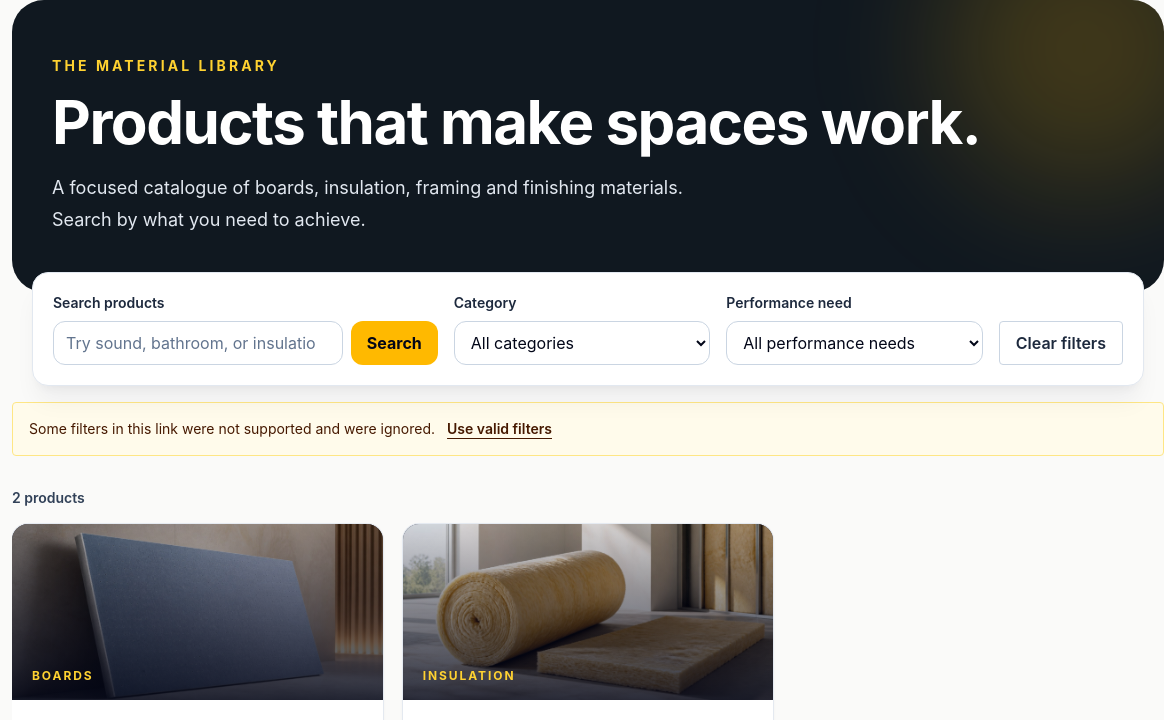
Test case: ProductsPage › ignores invalid URL filters and offers recovery
Expected: the text "Some filters in this link were not supported and were ignored." is shown, [29,419,435,439]
Click the button "Use valid filters": {"x": 500, "y": 429} [447,419,552,439]
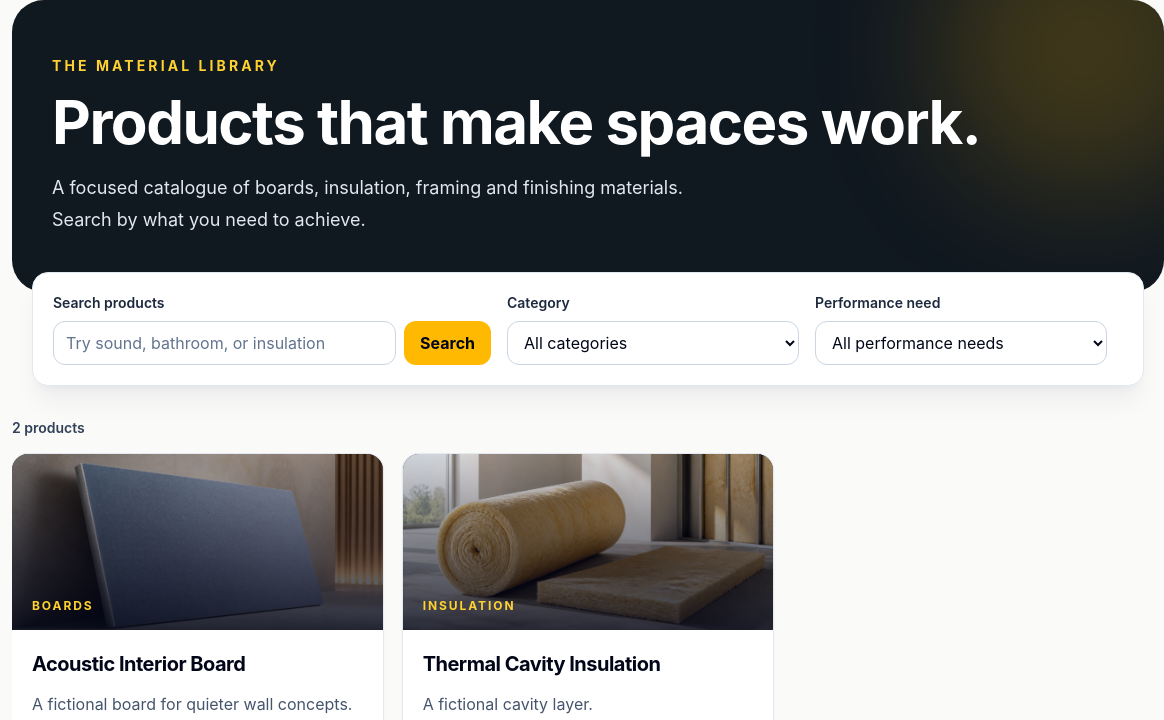
Result: the text "Some filters in this link were not supported and were ignored." is gone
